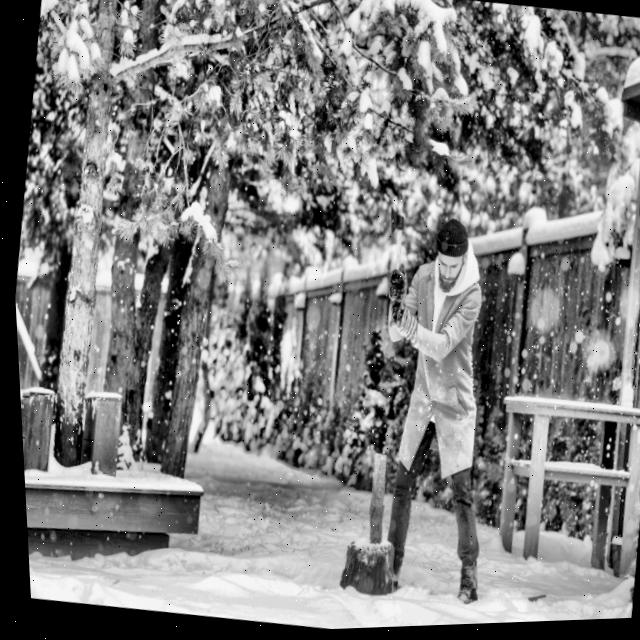kapak: (365, 187, 427, 337)
